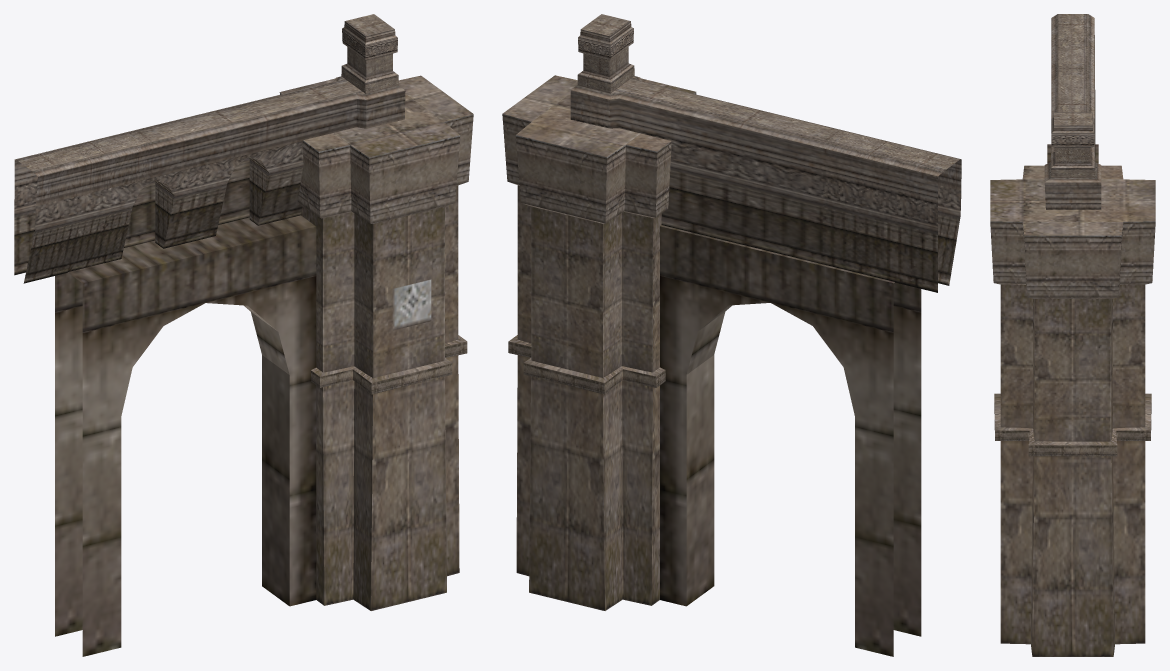
The model's file is SM_zhucheng_yuanjing01.FBX.
3 renders of one model, left to right at view 1: azimuth 30°, elevation 25°; view 2: azimuth 150°, elevation 25°; view 3: azimuth 270°, elevation 25°, orthographic. The views are drawn at different scales.
Parts seen in each view (by area): view 1: SM_zhucheng_yuanjing01; view 2: SM_zhucheng_yuanjing01; view 3: SM_zhucheng_yuanjing01.
Boxes of the visible parts, x1=… form: SM_zhucheng_yuanjing01: x1=14, y1=14, x2=473, y2=656; SM_zhucheng_yuanjing01: x1=502, y1=14, x2=961, y2=656; SM_zhucheng_yuanjing01: x1=990, y1=14, x2=1155, y2=656.
Size of the model in its own units: 251 by 311 by 91.87.
